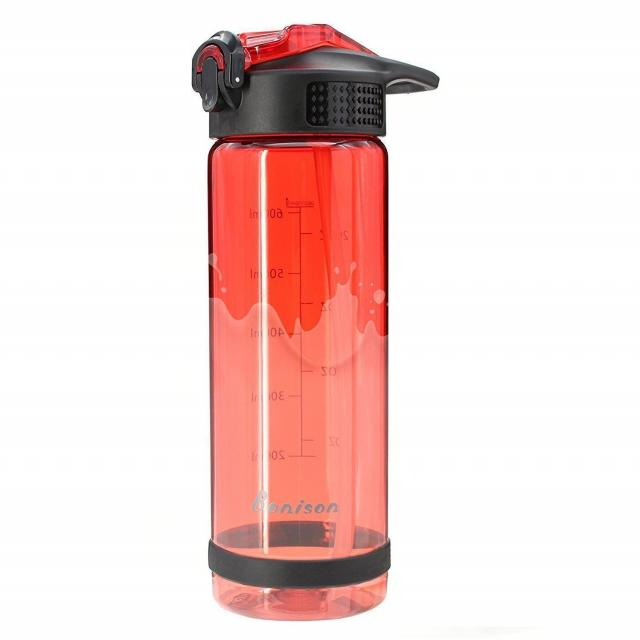gym bottle: (188, 20, 444, 626)
